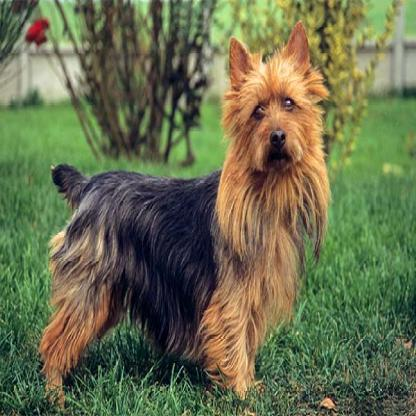Australian Terrier: (125, 55, 346, 391), (301, 62, 313, 76), (349, 34, 354, 52)
